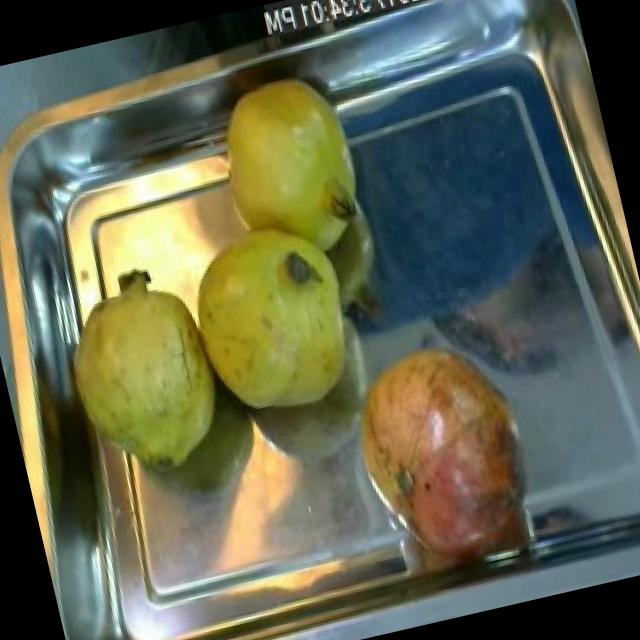fruit: (346, 314, 556, 584), (170, 197, 383, 438), (45, 251, 240, 497), (191, 58, 377, 272)
